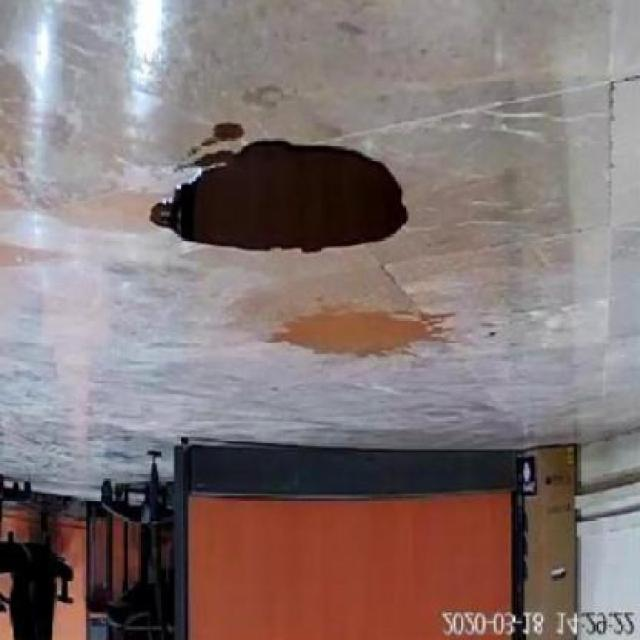spillage: (153, 142, 408, 252), (269, 311, 447, 353)
